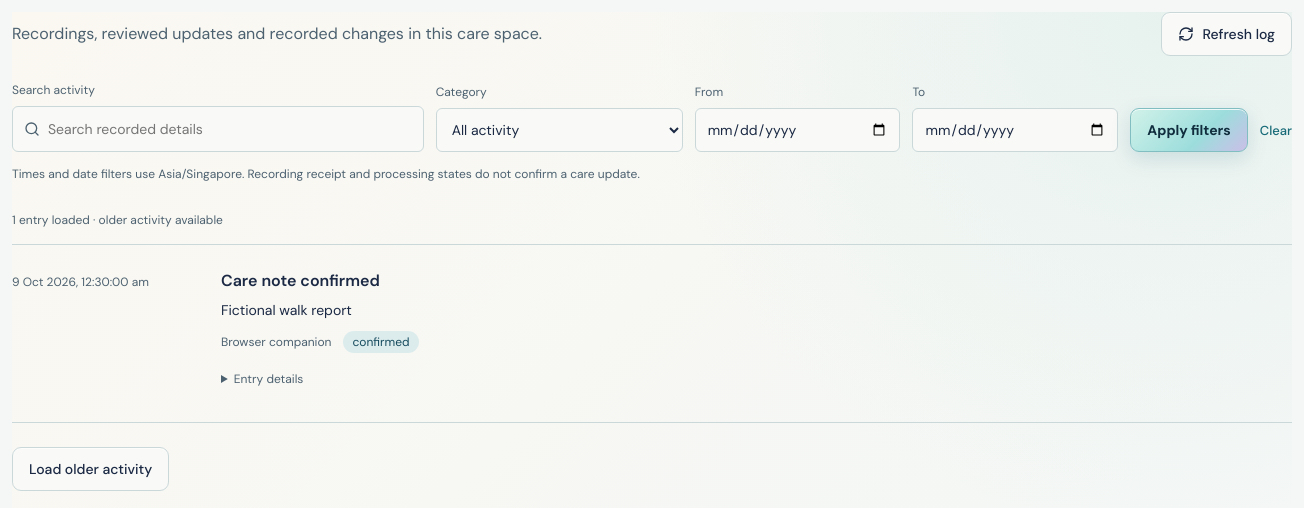
Scenario: clears earlier pages and reports access loss on a denied older-page request
Expected: the text "Fictional walk report" is shown, [221,301,352,319]
Step 1. Click the button "Load older activity" → (91, 469), box [12,447,169,491]
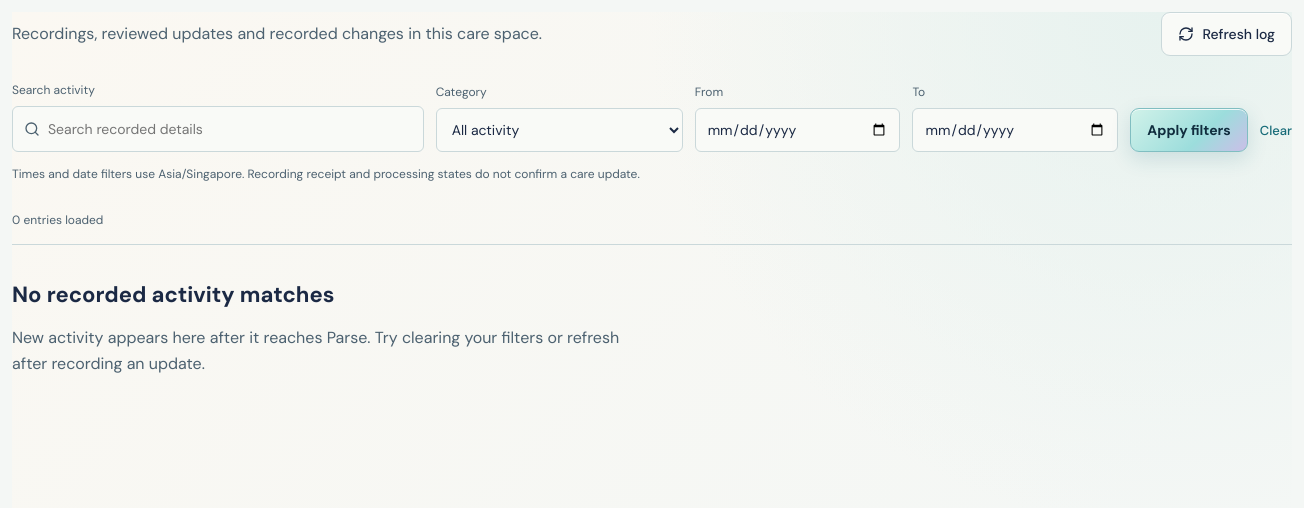
Expected: the text "Fictional walk report" is gone
